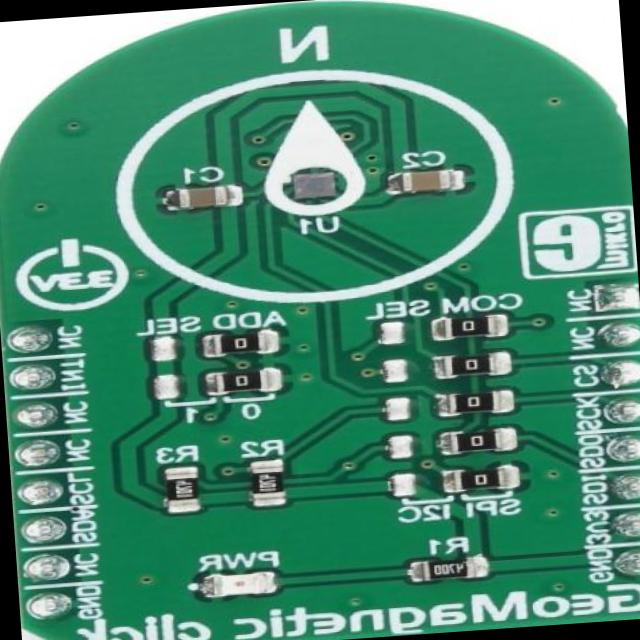IC: (282, 167, 348, 205)
LED: (202, 569, 276, 599)
capacitor: (388, 170, 454, 192), (172, 186, 228, 210)
resistor: (439, 352, 493, 381), (416, 556, 479, 580), (440, 315, 494, 341), (446, 389, 501, 414), (212, 371, 265, 396), (210, 330, 262, 354), (452, 468, 504, 492), (447, 431, 502, 453), (164, 469, 196, 506), (252, 466, 282, 498)
